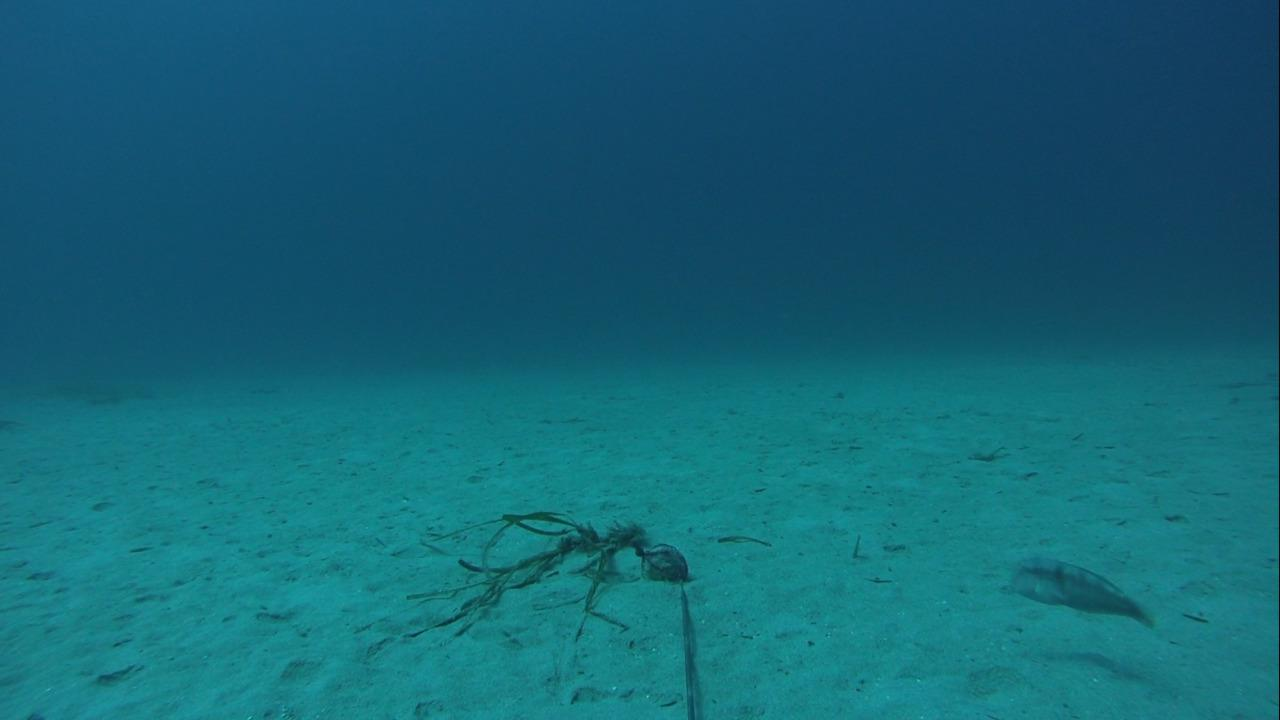raor: (1003, 550, 1162, 629)
